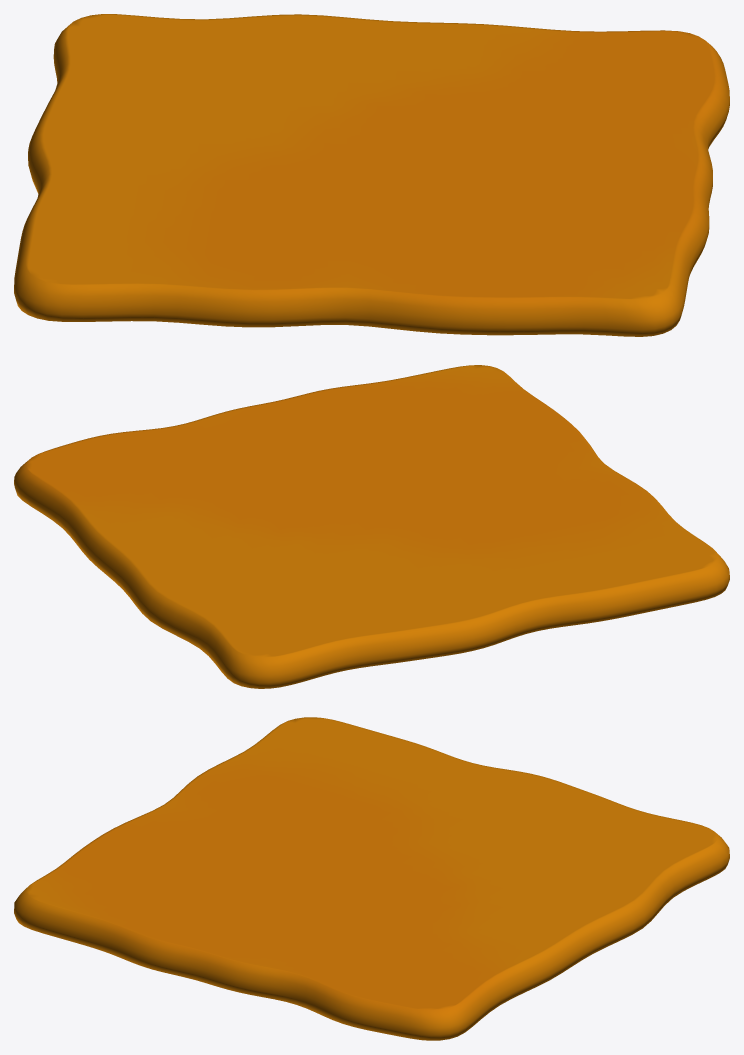
Rendered from testmodelsCube_003.fbx.
3 renders of one model, top to bottom at view 1: azimuth 30°, elevation 25°; view 2: azimuth 150°, elevation 25°; view 3: azimuth 270°, elevation 25°, orthographic. The views are drawn at different scales.
Visible parts, largest first — view 1: Cube.003; view 2: Cube.003; view 3: Cube.003.
Boxes of the visible parts, <box> form: Cube.003: <box>14,14,729,336</box>; Cube.003: <box>14,365,729,688</box>; Cube.003: <box>14,717,729,1040</box>.
Bounding box in the file's own units: 653 × 26.65 × 652.
